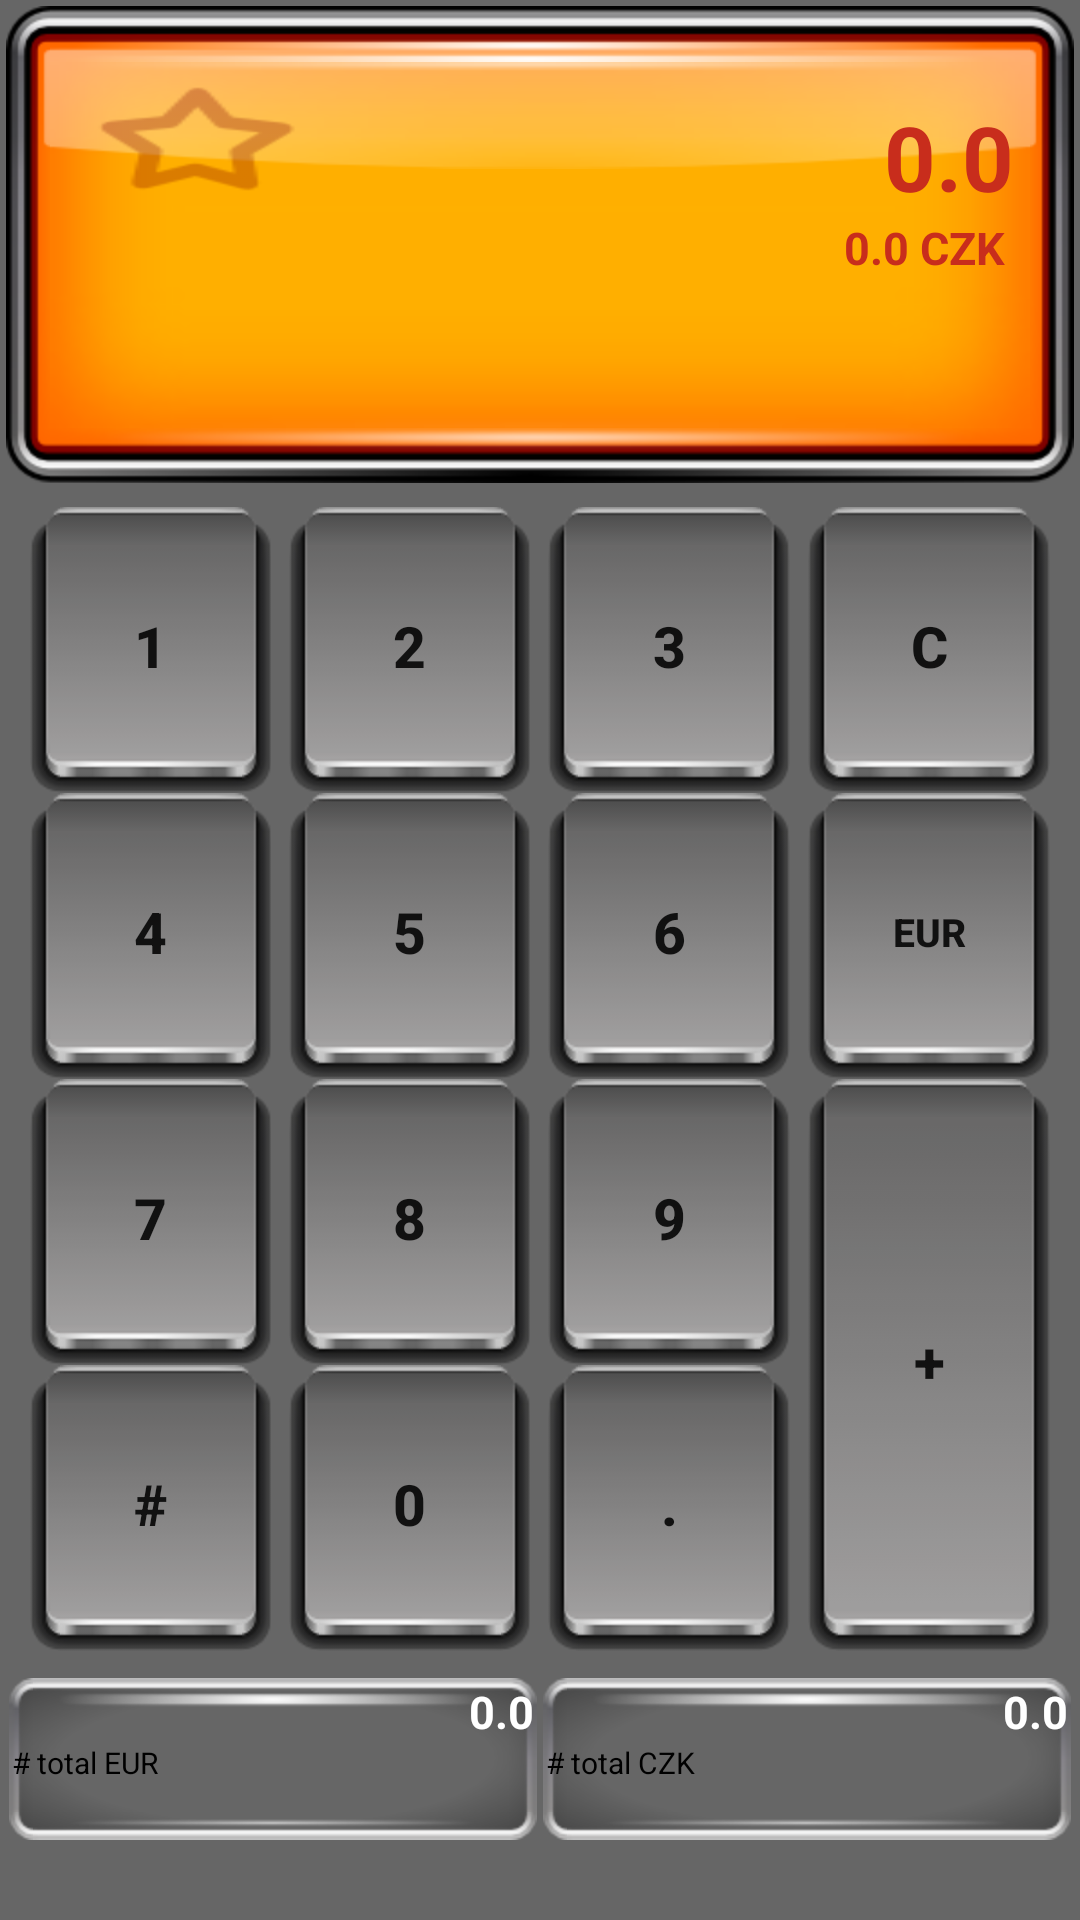

Point at icon controls on the screen. Image size 1080 × 1920, points as (x,y).
starbutton: (198,141)
